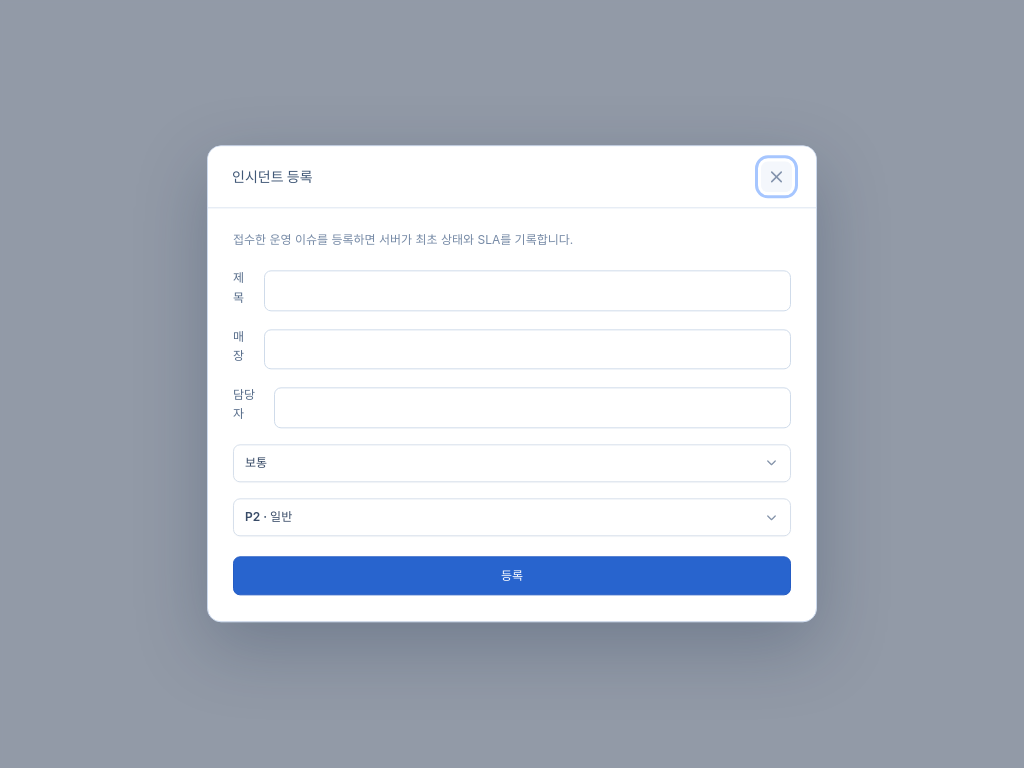
Scenario: 인시던트 등록 팝업 › 등록 실패의 요청 ID를 표시하고 입력 내용을 유지한다
The width and height of the screenshot is (1024, 768).
Step 1. Type "냉장고 온도 이슈" into the field labelled "제목" → (527, 291), box x1=264 y1=271 x2=791 y2=311
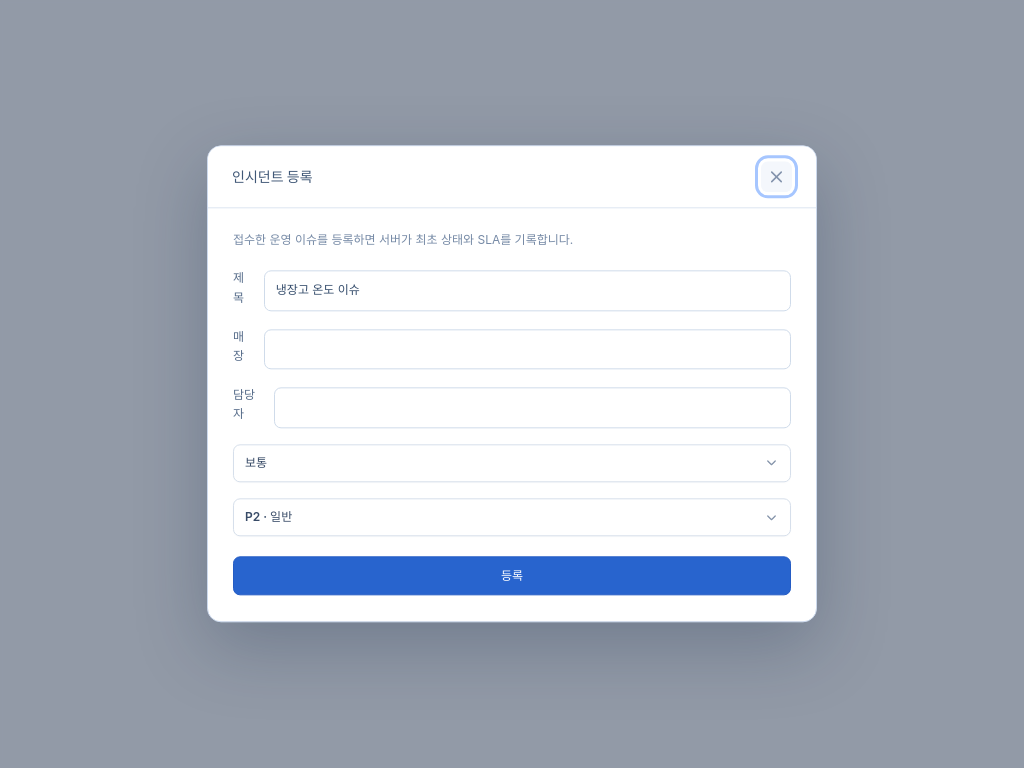
Step 2. Type "강남점" into the field labelled "매장" → (527, 349), box x1=264 y1=329 x2=791 y2=370
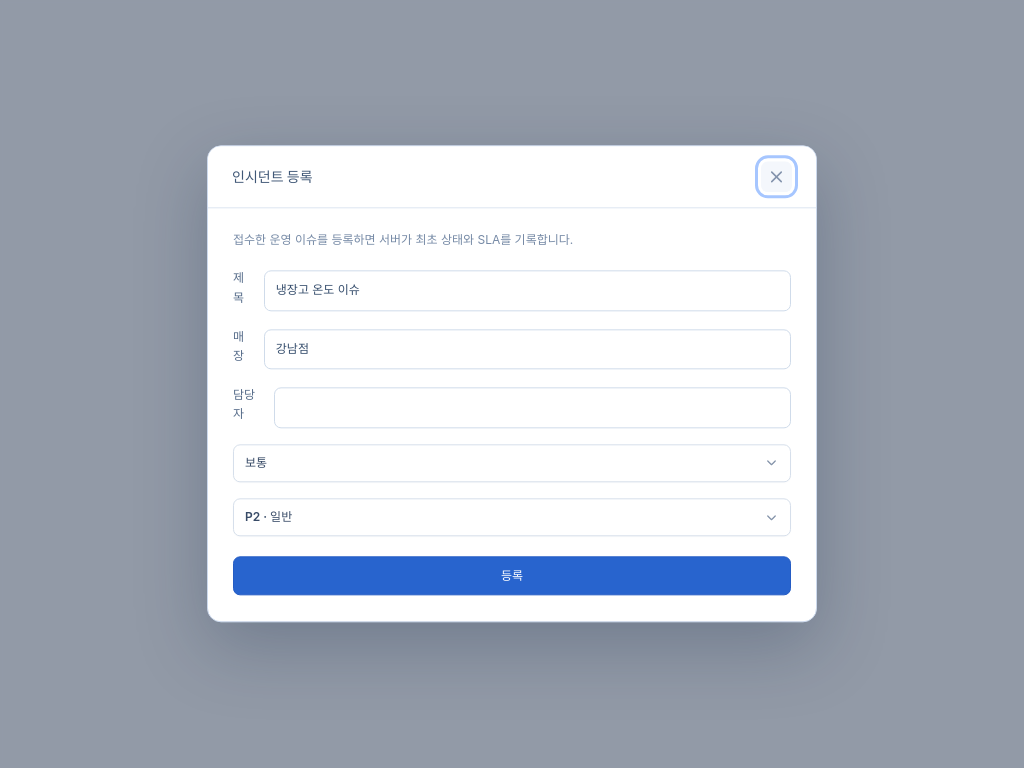
Step 3. Type "운영 담당자" into the field labelled "담당자" → (532, 408), box x1=274 y1=388 x2=791 y2=428
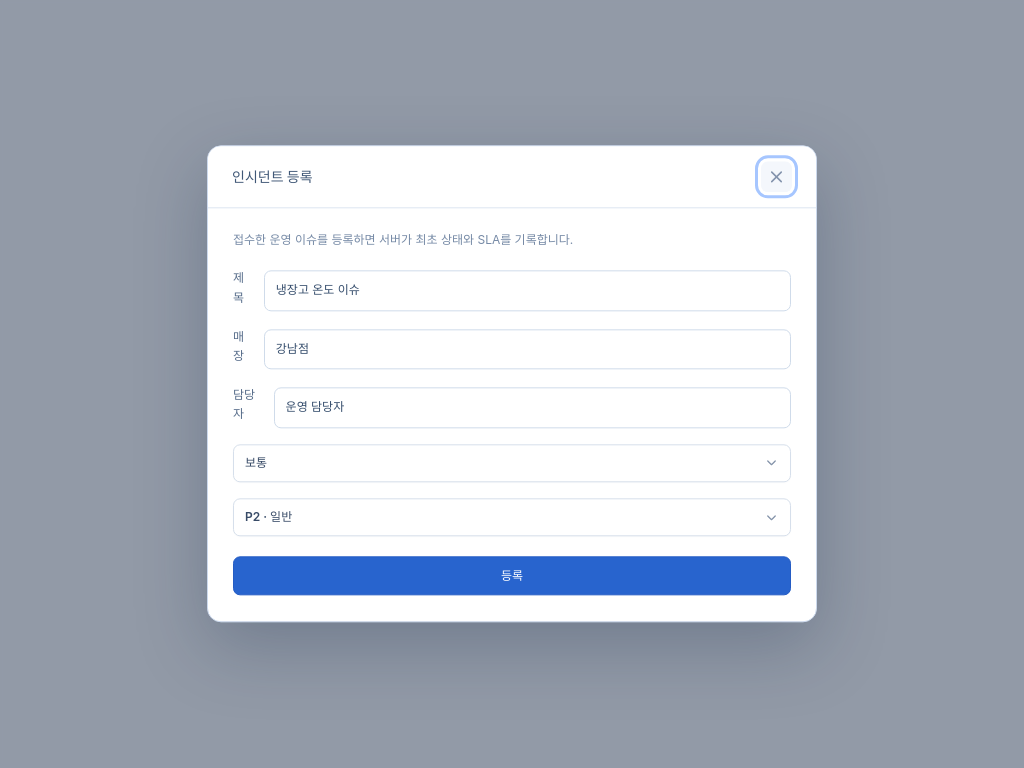
Step 4. Click the button "등록" → (512, 576), box x1=233 y1=557 x2=791 y2=596
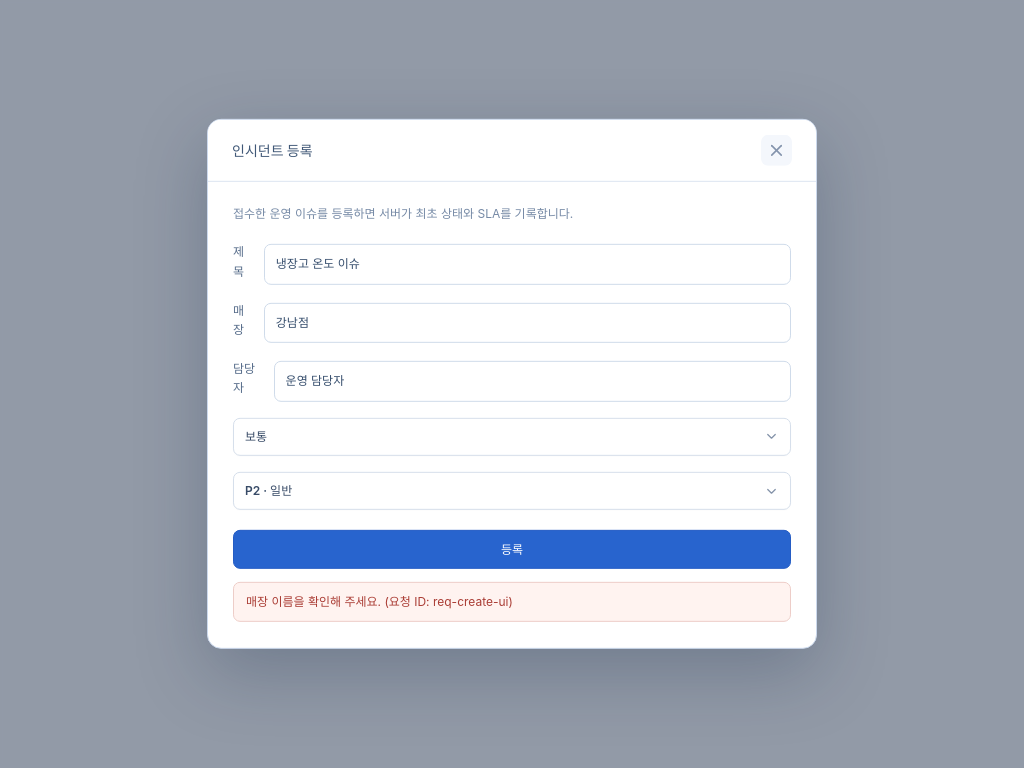
expect the button "등록" is enabled: met, box x1=233 y1=530 x2=791 y2=569
expect the message shows "매장 이름을 확인해 주세요.": met, box x1=246 y1=594 x2=513 y2=609
expect the message shows "req-create-ui": met, box x1=246 y1=594 x2=513 y2=609
